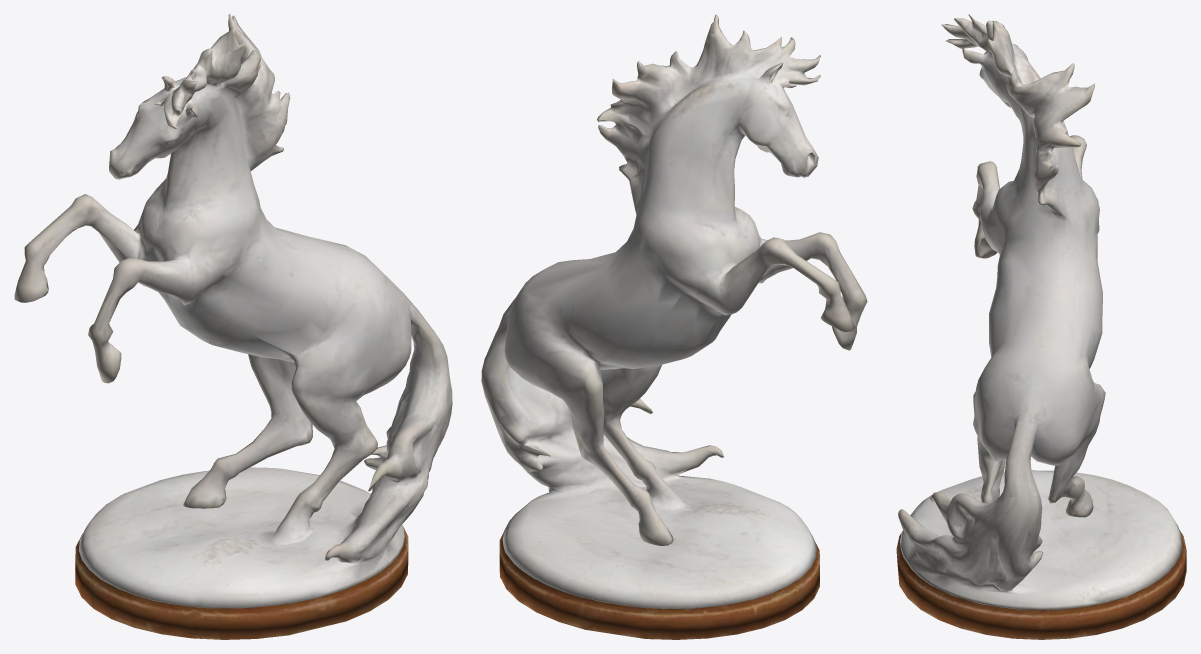
File: horse_statue_01.53ff6be9.glb
The picture shows the model from 3 angles, left to right: view 1: azimuth 30°, elevation 25°; view 2: azimuth 150°, elevation 25°; view 3: azimuth 270°, elevation 25°; orthographic projection. The views are drawn at different scales.
Parts seen in each view (by area): view 1: horse_statue_01; view 2: horse_statue_01; view 3: horse_statue_01.
Boxes of the visible parts, x1,y1,x2,y2 form: horse_statue_01: (14, 14, 452, 639); horse_statue_01: (481, 14, 867, 639); horse_statue_01: (896, 14, 1186, 639).
Bounding box in the file's own units: 0.7447 × 1 × 0.49.
1 material, 1 textured.
